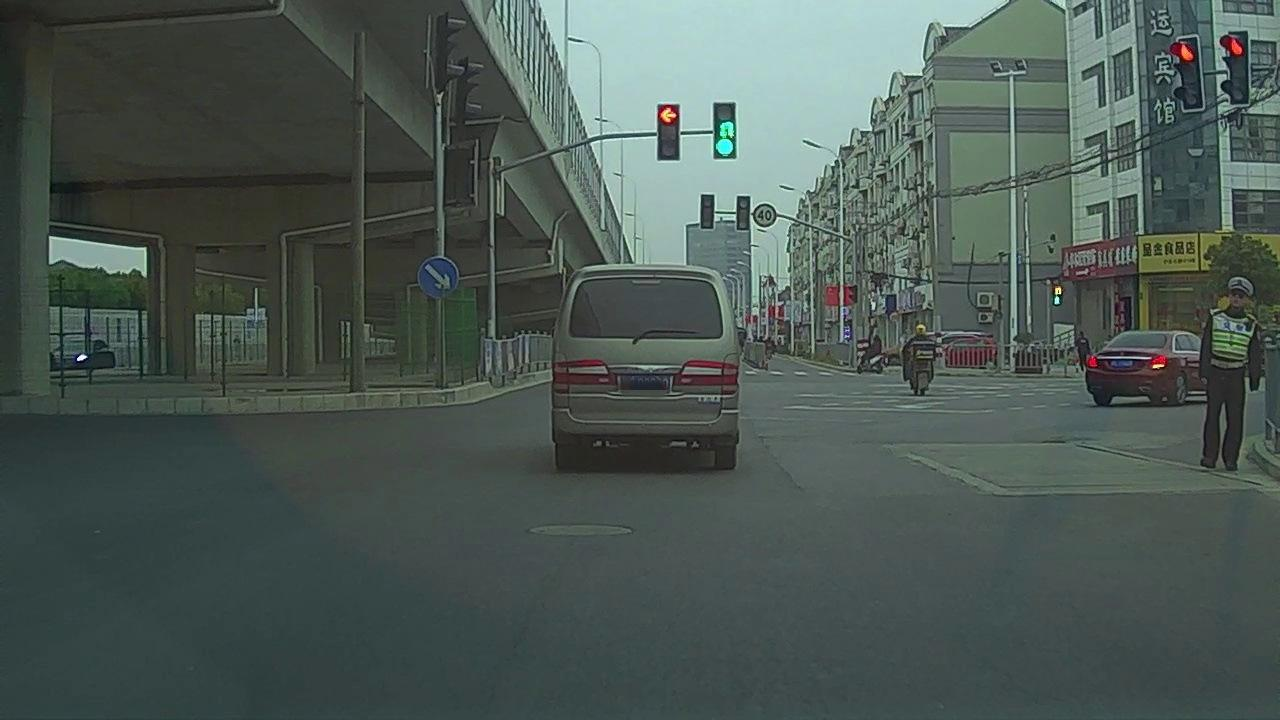traffic_light: (656, 106, 681, 163), (715, 101, 736, 158), (701, 194, 714, 228), (737, 195, 749, 231)
